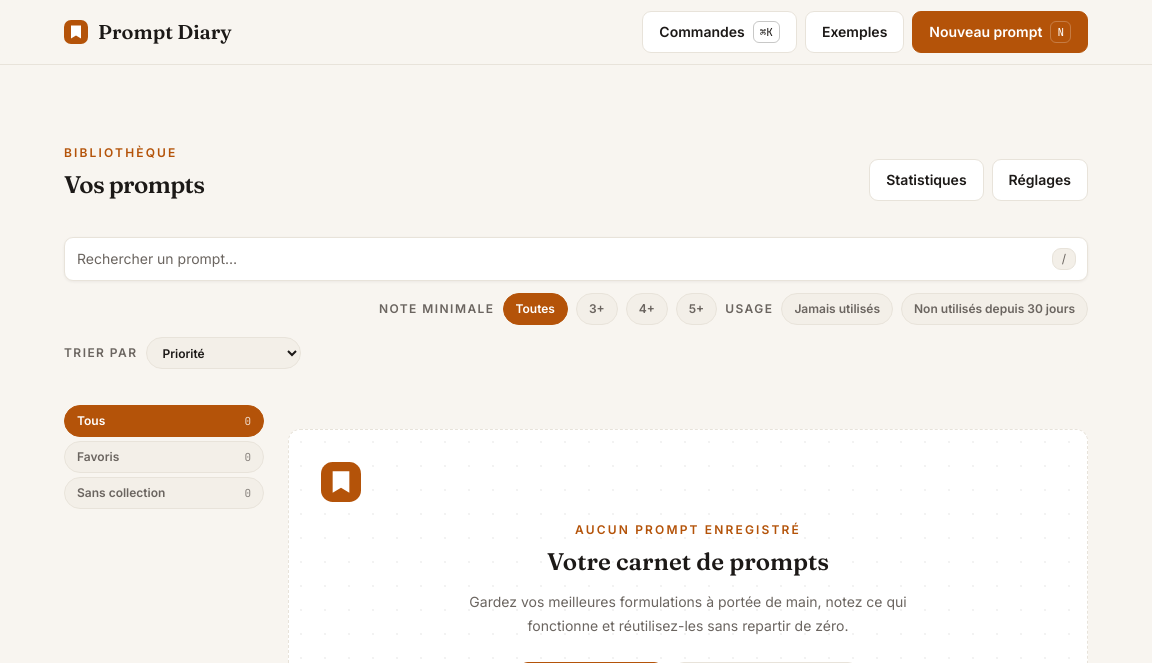
Test: Prompt Diary prompt library › keeps the editor open and reports validation errors for an invalid draft
Check: the text "Aucun prompt enregistré" is shown, box left=575, top=522, right=801, bottom=537
Click the button "Nouveau prompt N": point(1000, 32) left=912, top=11, right=1088, bottom=53
(page scrolled)
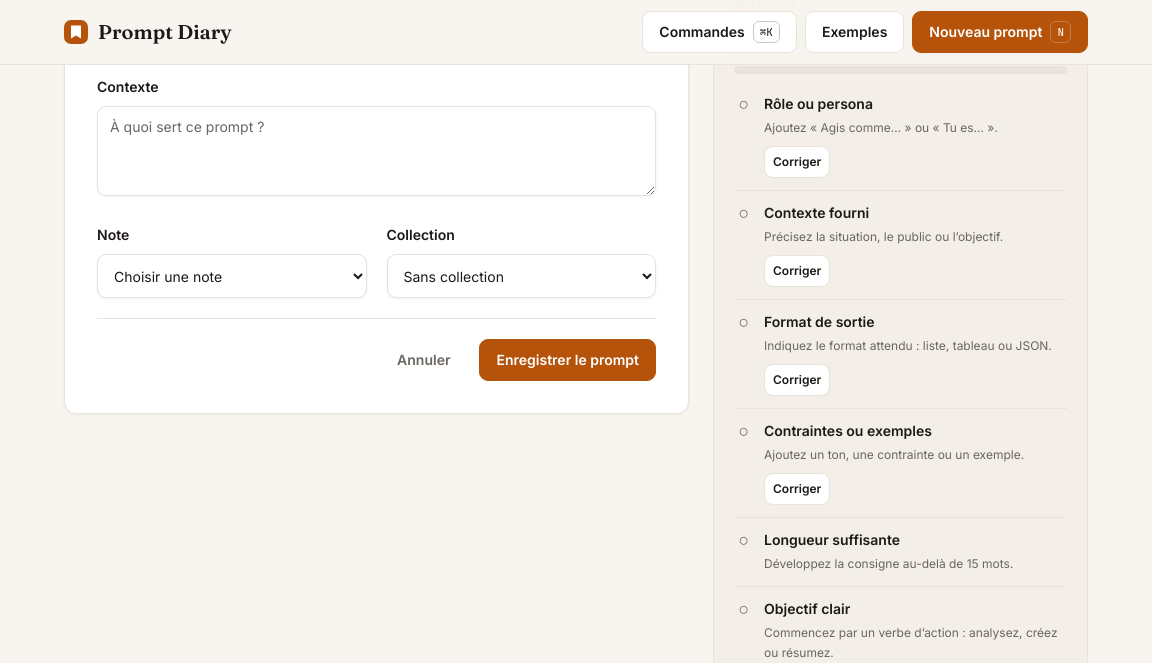
Click the button "Enregistrer le prompt": point(568, 360) left=480, top=339, right=656, bottom=381
(page scrolled)
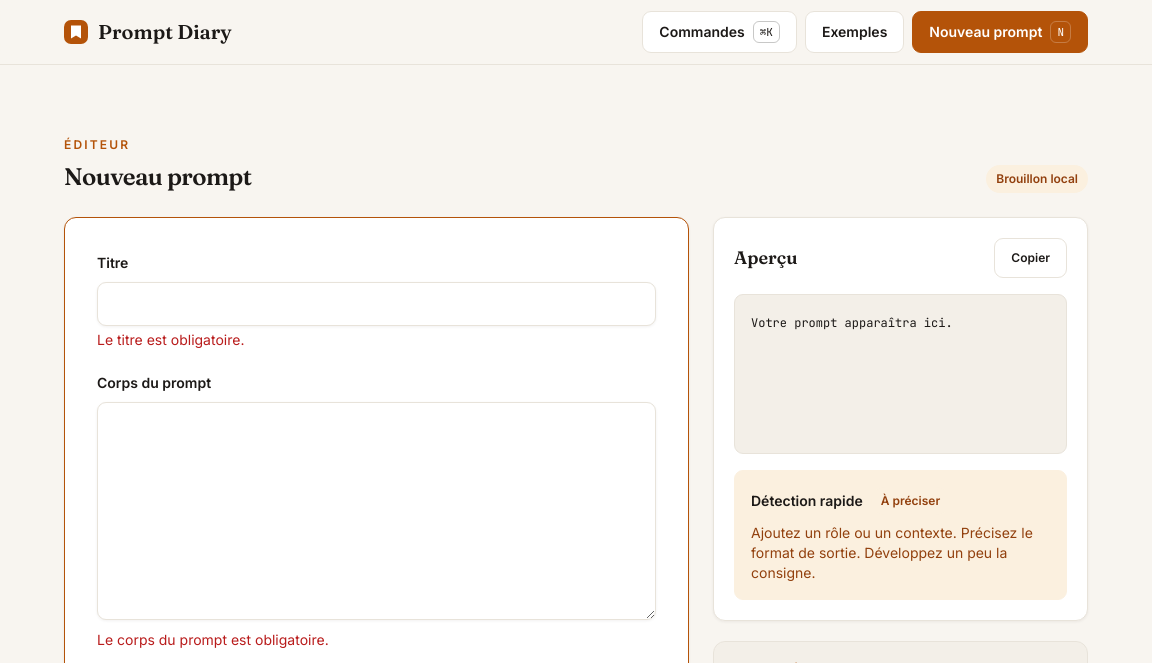
Check: the heading "Nouveau prompt" is shown, box left=64, top=161, right=252, bottom=193
Check: the text "Le titre est obligatoire." is shown, box left=97, top=331, right=244, bottom=348
Check: the text "Le corps du prompt est obligatoire." is shown, box left=97, top=631, right=329, bottom=648
